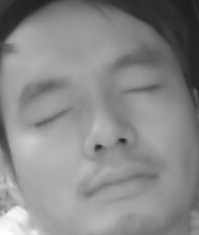blink: (35, 103, 72, 127), (120, 79, 160, 101)
mouth: (83, 161, 160, 203)
